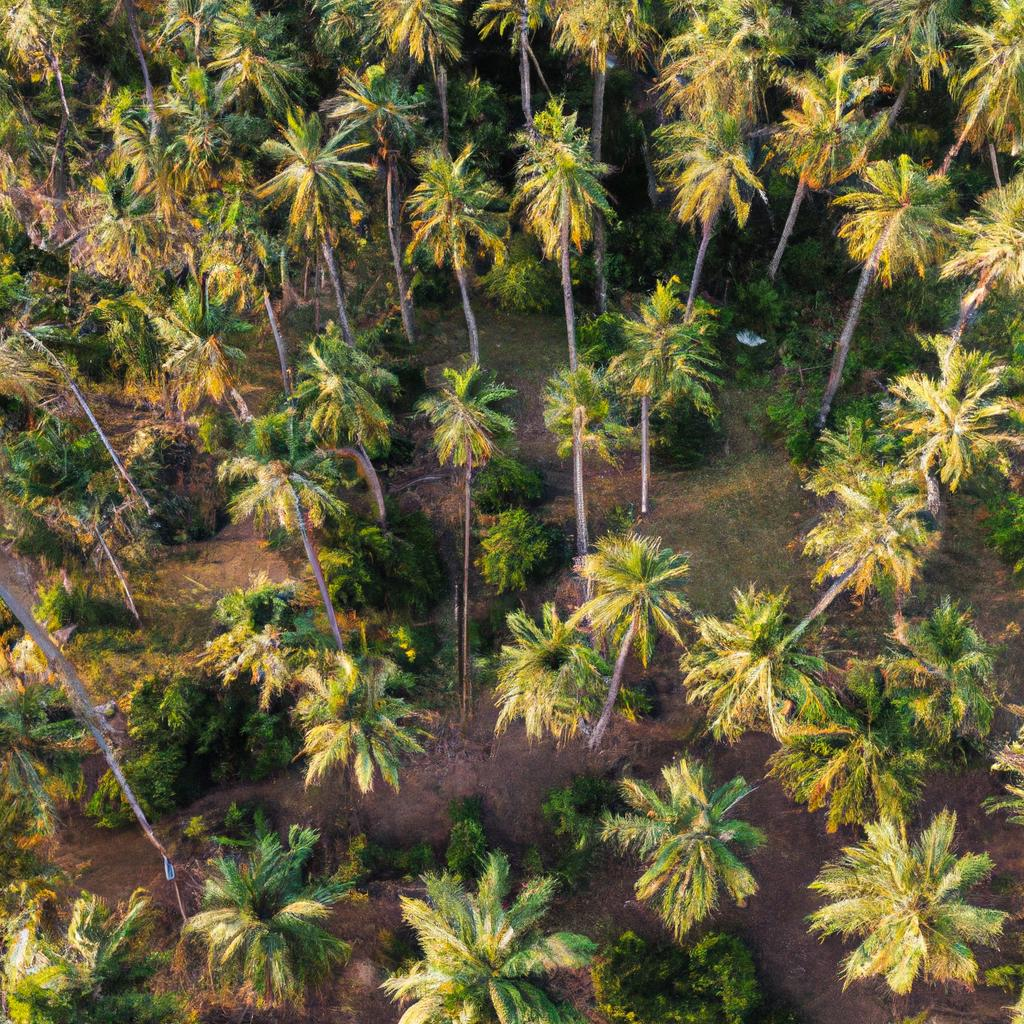coconut_tree: (815, 801, 1012, 1010), (760, 404, 932, 633), (170, 812, 355, 1001), (378, 869, 594, 1023), (610, 748, 781, 931), (867, 313, 1023, 489), (302, 642, 450, 791), (486, 594, 620, 745), (635, 101, 766, 248), (775, 53, 897, 210), (837, 137, 958, 293), (216, 412, 351, 545), (599, 274, 726, 413), (408, 350, 540, 478), (505, 94, 618, 242), (393, 139, 508, 281), (248, 121, 377, 229)
